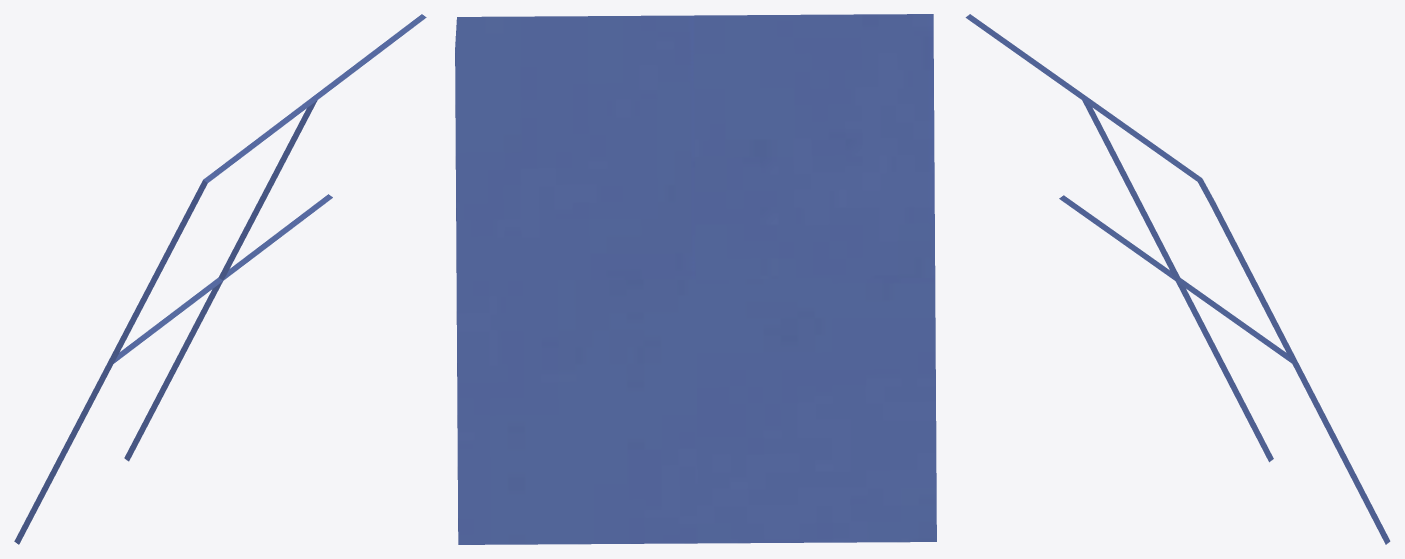
The picture shows the model from 3 angles, left to right: view 1: azimuth 30°, elevation 25°; view 2: azimuth 150°, elevation 25°; view 3: azimuth 270°, elevation 25°; orthographic projection. The views are drawn at different scales.
Size of the model in its own units: 19670 by 17763 by 16612.
Materials: 1 (1 with a texture image).
